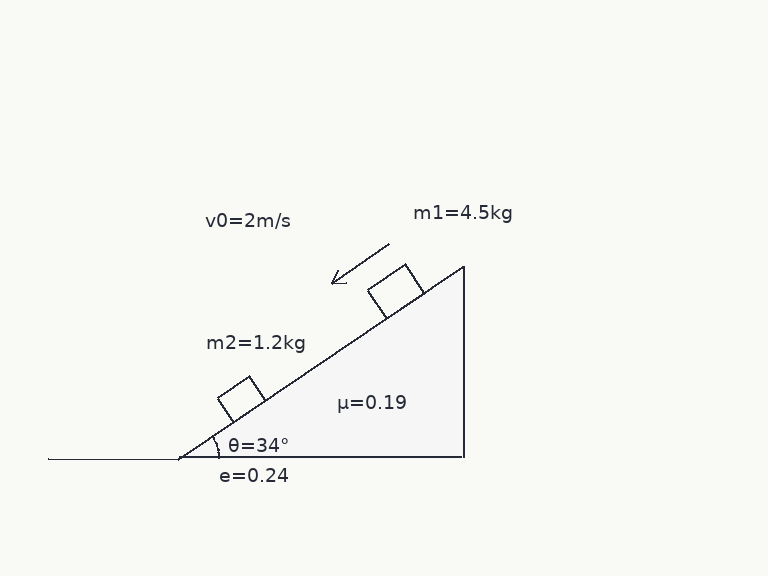block: (365, 262, 426, 320), (214, 374, 267, 424)
ramp: (177, 265, 465, 460)
